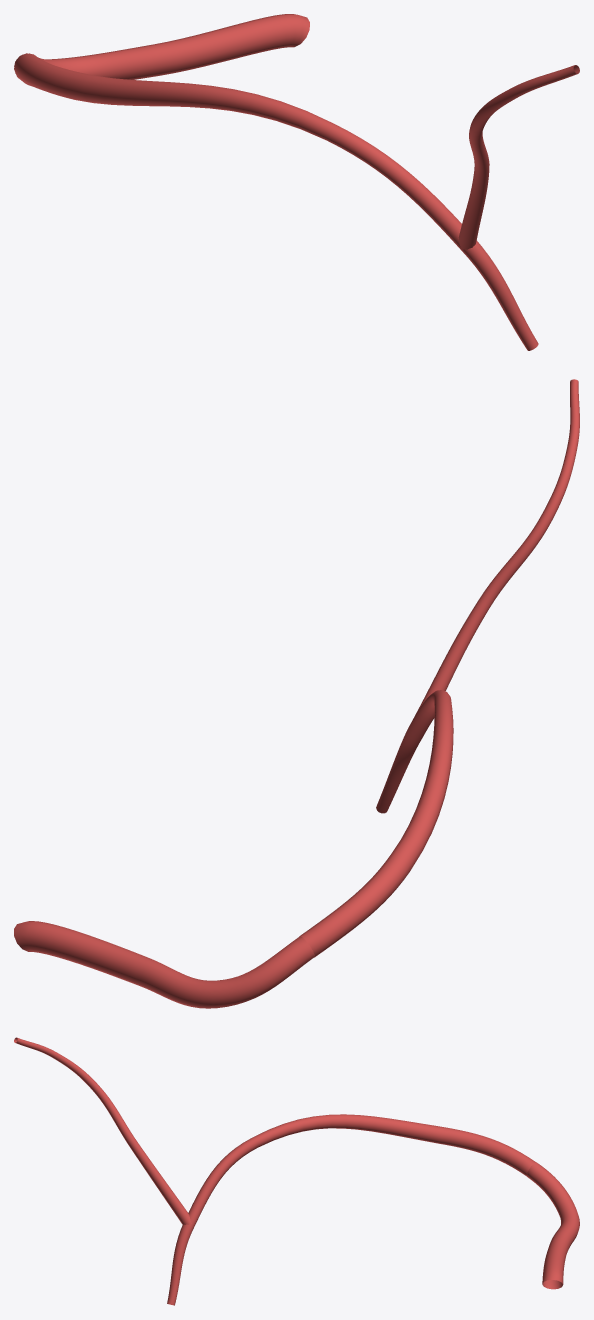
3 views of the same model, one above another, from view 1: azimuth 30°, elevation 25°; view 2: azimuth 150°, elevation 25°; view 3: azimuth 270°, elevation 25° (orthographic). The views are drawn at different scales.
Visible parts, largest first — view 1: 右侧颈横动脉; view 2: 右侧颈横动脉; view 3: 右侧颈横动脉.
Part boxes in pixels (x1,y1,x2,y2): 右侧颈横动脉: (14, 14, 579, 350); 右侧颈横动脉: (14, 379, 579, 1008); 右侧颈横动脉: (14, 1037, 579, 1305).
Bounding box in the file's own units: 0.0303 × 0.0342 × 0.0718.
